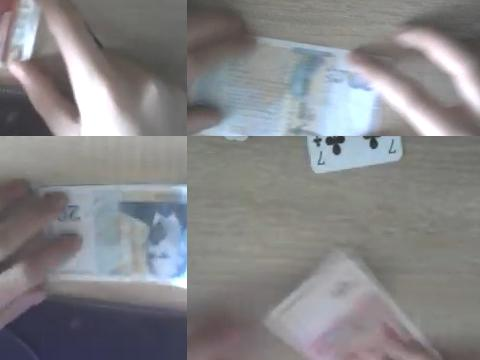20leva: (188, 37, 392, 136), (43, 182, 187, 288)
5leva: (262, 247, 447, 360)
